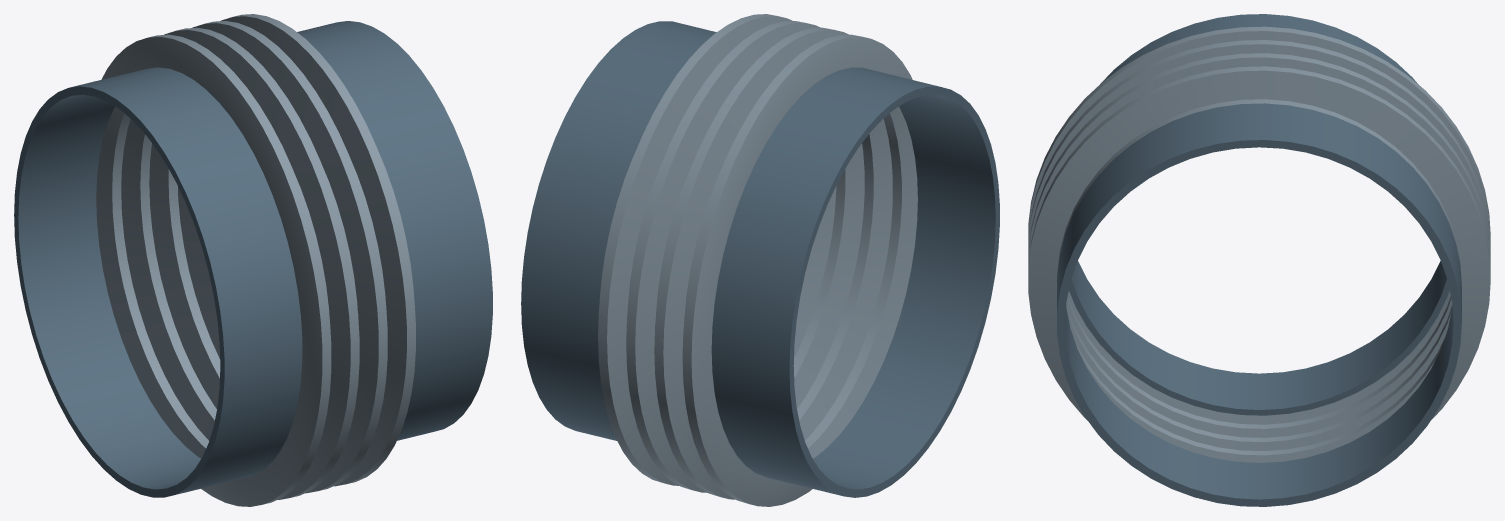
Rendered from silf-dn500-L390-D530.glb.
3 views of the same model, side by side, from view 1: azimuth 30°, elevation 25°; view 2: azimuth 150°, elevation 25°; view 3: azimuth 270°, elevation 25° (orthographic). The views are drawn at different scales.
Visible parts, largest first — view 1: prokladka_silfon_1, patrubok_1, patrubok_2; view 2: prokladka_silfon_1, patrubok_1, patrubok_2; view 3: prokladka_silfon_1, patrubok_2, patrubok_1.
Part boxes in pixels (x1,y1,x2,y2): prokladka_silfon_1: (96, 14, 415, 506); patrubok_1: (14, 67, 302, 497); patrubok_2: (297, 21, 492, 440); prokladka_silfon_1: (598, 14, 917, 506); patrubok_1: (711, 67, 999, 497); patrubok_2: (521, 21, 716, 440); prokladka_silfon_1: (1028, 26, 1490, 462); patrubok_2: (1057, 103, 1461, 506); patrubok_1: (1069, 14, 1449, 415).
Bounding box in the file's own units: 390 × 605 × 605.
